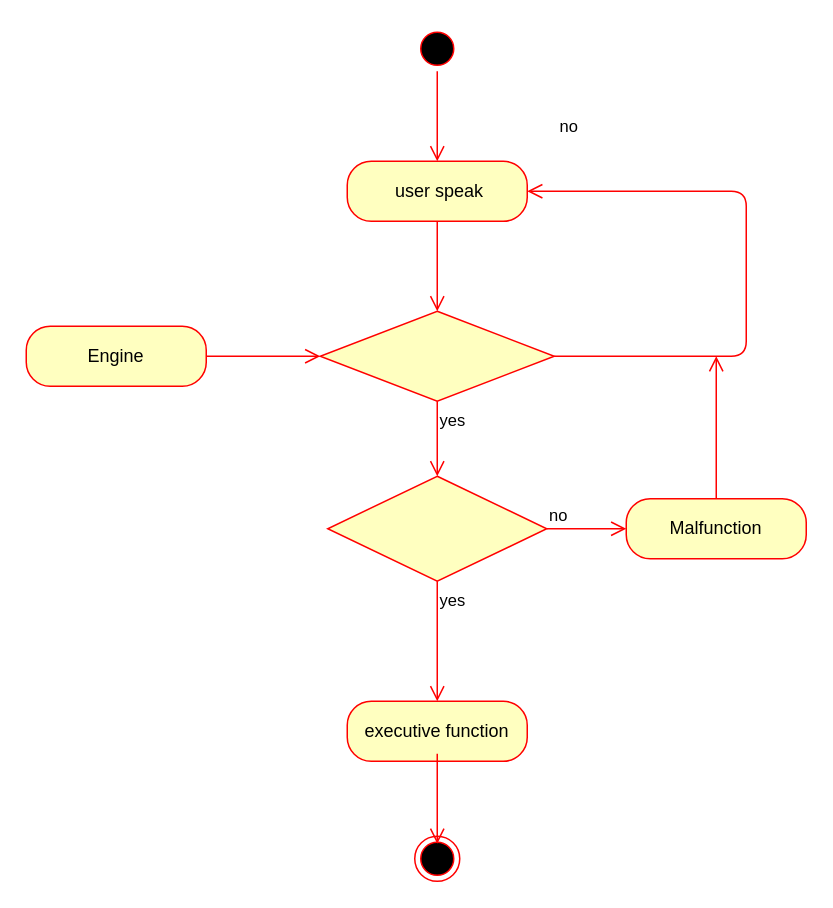
The diagram is 833 pixels wide and 908 high, and some of its shapes have lost their labels. The shapes that lost their labels are listed below. From the top down, each one's centre as x and y in pixels, then its label:
At (436,355): "Recogniton".
At (436,528): "Execut order".
